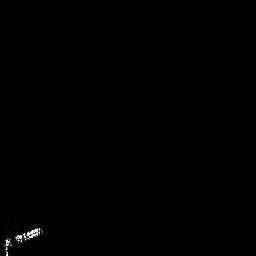ship: (1, 225, 45, 256)
